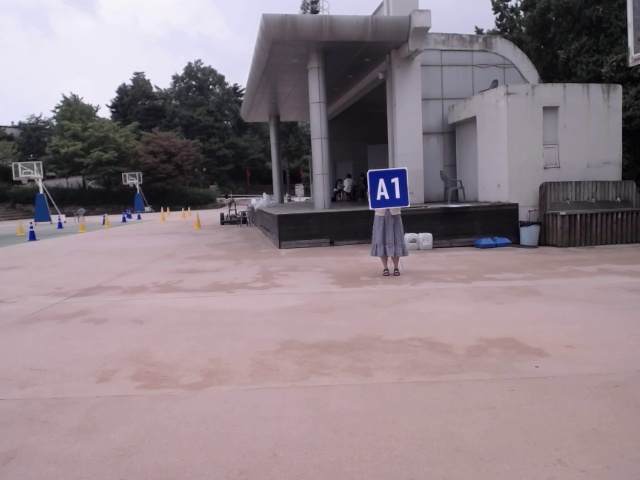delivery_a1: (368, 167, 409, 210)
